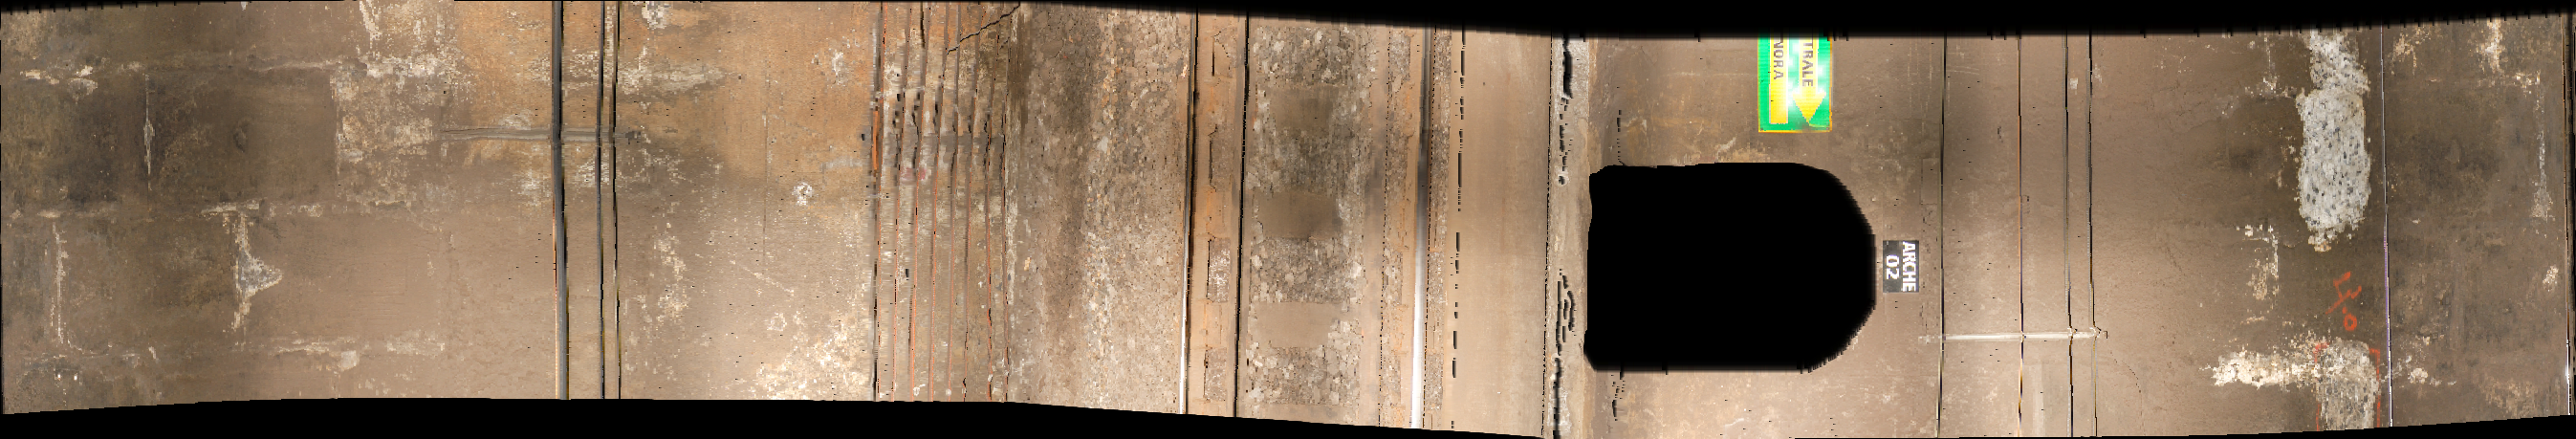pipes: (867, 2, 1027, 426), (544, 2, 624, 423), (2058, 31, 2106, 439), (2371, 7, 2410, 439), (2009, 35, 2031, 439), (1935, 28, 1950, 439)
sign: (1756, 35, 1838, 138), (1883, 233, 1925, 314)
tracks: (1186, 3, 1543, 439)
